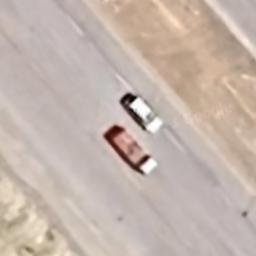SUV: (126, 93, 164, 135)
truck: (107, 126, 158, 177)
